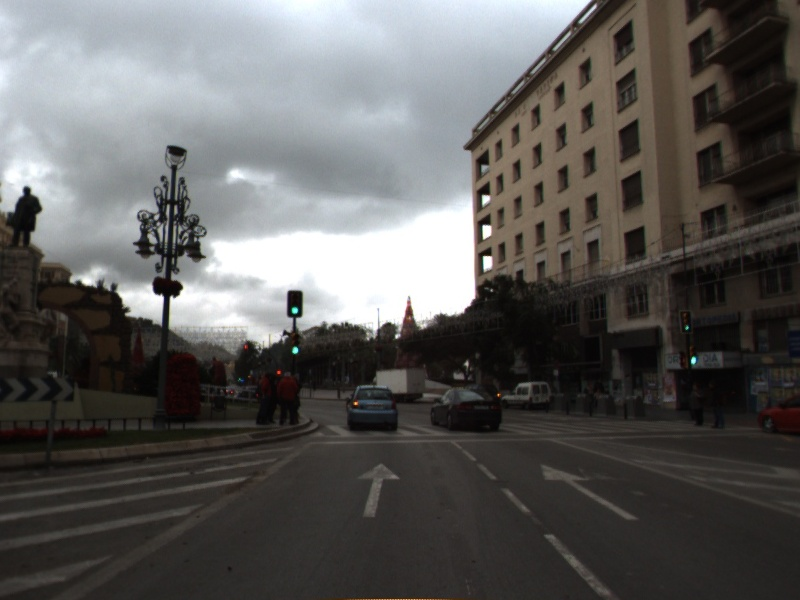STRAIGHT: (538, 462, 642, 522), (354, 461, 403, 519)
